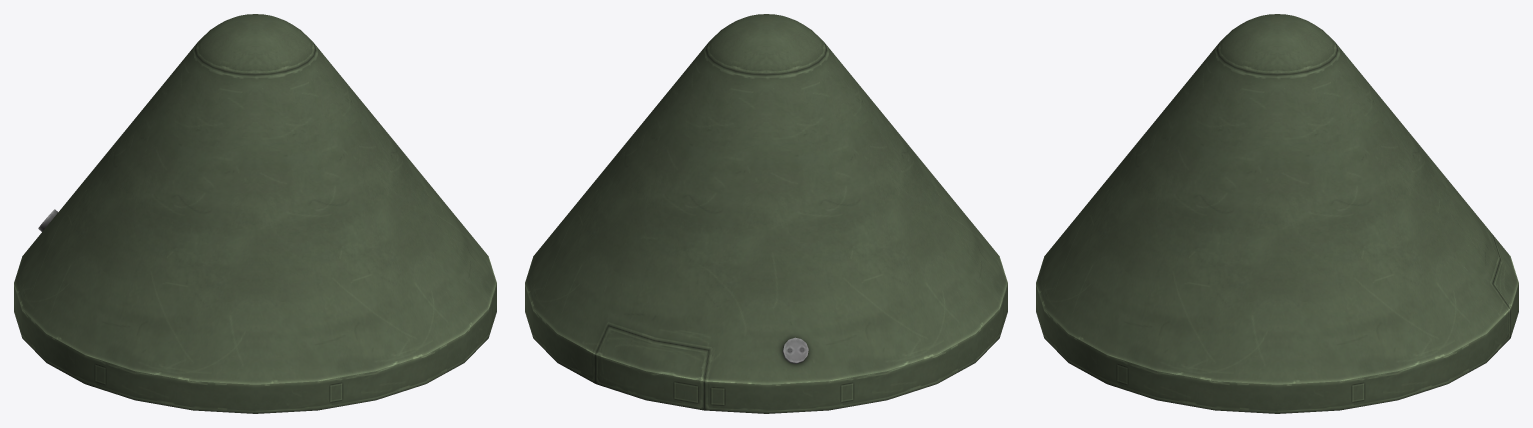
The model's file is pointed control.obj.
The picture shows the model from 3 angles, left to right: view 1: azimuth 30°, elevation 25°; view 2: azimuth 150°, elevation 25°; view 3: azimuth 270°, elevation 25°; orthographic projection.
Visible parts, largest first — view 1: 1; view 2: 1; view 3: 1.
Part boxes in pixels (left/top/right/bottom): 1: left=14, top=14, right=496, bottom=413; 1: left=525, top=14, right=1007, bottom=413; 1: left=1036, top=14, right=1518, bottom=413.
Bounding box in the file's own units: 1.88 × 1.27 × 1.88.
Materials: 1 (1 with a texture image).
